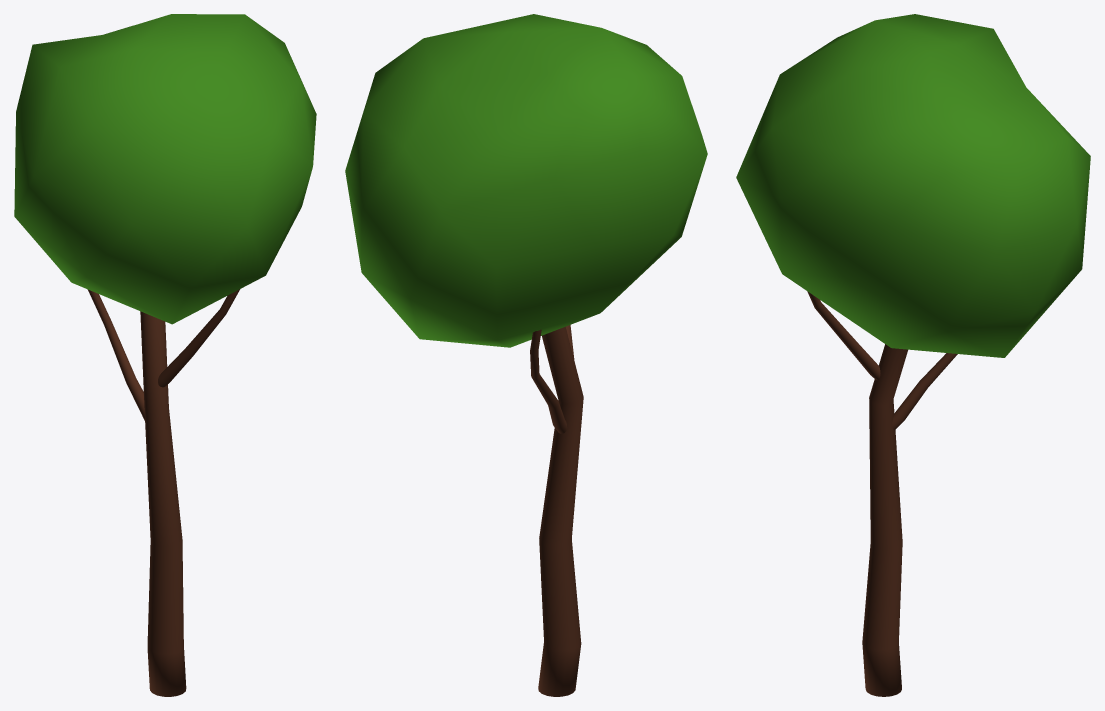
File: drzewo4.fbx
3 views of the same model, side by side, from view 1: azimuth 30°, elevation 25°; view 2: azimuth 150°, elevation 25°; view 3: azimuth 270°, elevation 25° (orthographic). The views are drawn at different scales.
Visible parts, largest first — view 1: drzewo4; view 2: drzewo4; view 3: drzewo4.
Part boxes in pixels (x1=…): drzewo4: x1=14, y1=14, x2=316, y2=696; drzewo4: x1=345, y1=14, x2=707, y2=696; drzewo4: x1=736, y1=14, x2=1090, y2=696.
Bounding box in the file's own units: 154 × 329 × 163.
